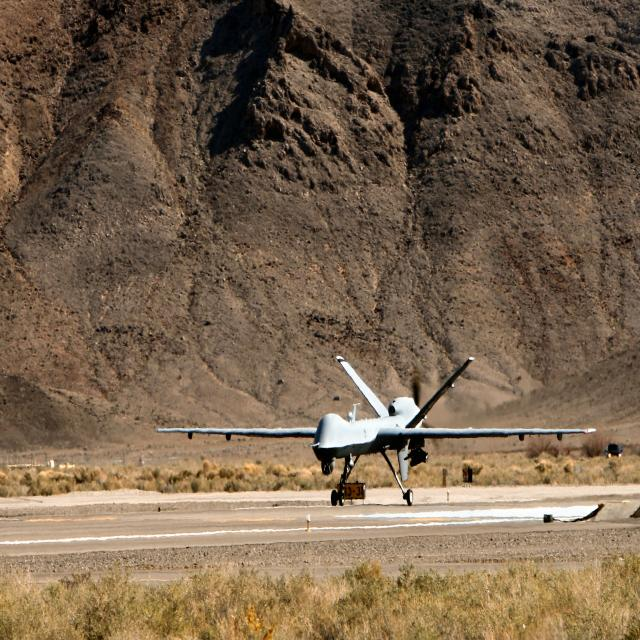MIL_Plane: (157, 355, 597, 506)
